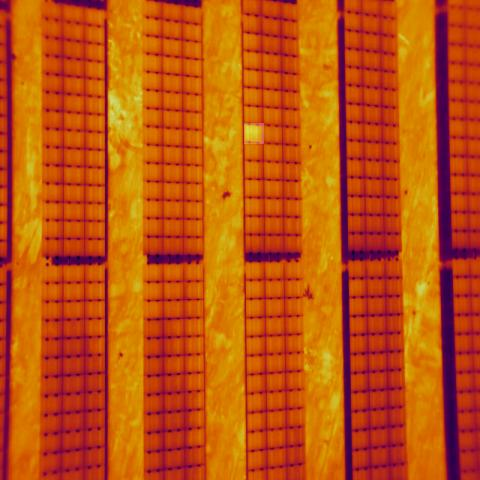fault: (244, 123, 264, 144)
